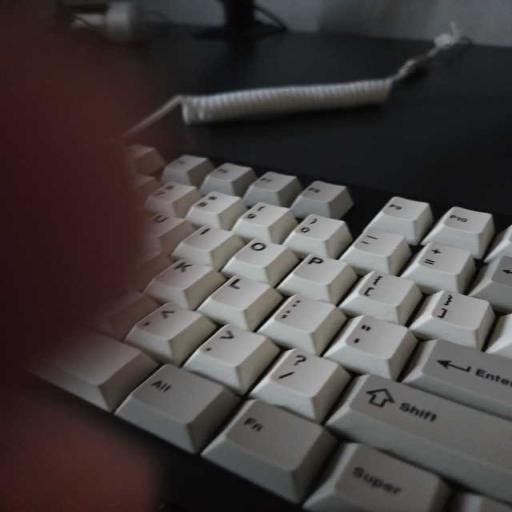person: (0, 13, 158, 511)
